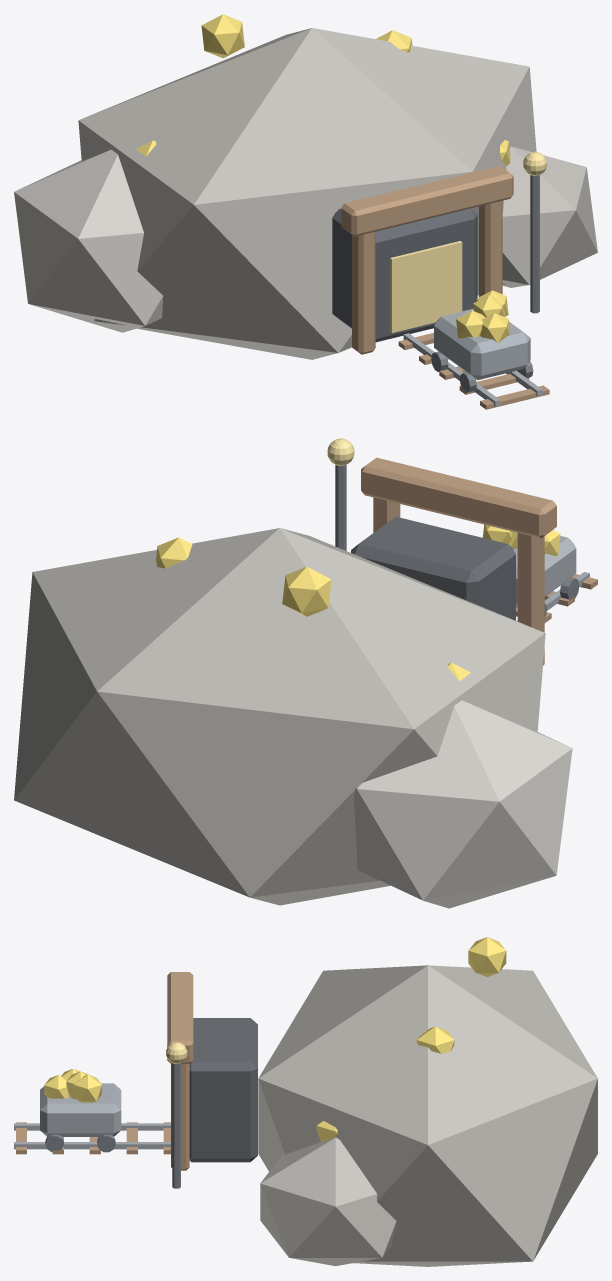
The model's file is mine.glb.
3 renders of one model, top to bottom at view 1: azimuth 30°, elevation 25°; view 2: azimuth 150°, elevation 25°; view 3: azimuth 270°, elevation 25°, orthographic. The views are drawn at different scales.
Parts seen in each view (by area): view 1: main; view 2: main; view 3: main.
Boxes of the visible parts, box(x1,y1,x2,y2) form: main: box(14, 14, 597, 409); main: box(14, 438, 597, 908); main: box(14, 937, 597, 1266).
Size of the model in its own units: 1.38 by 0.91 by 1.58.
